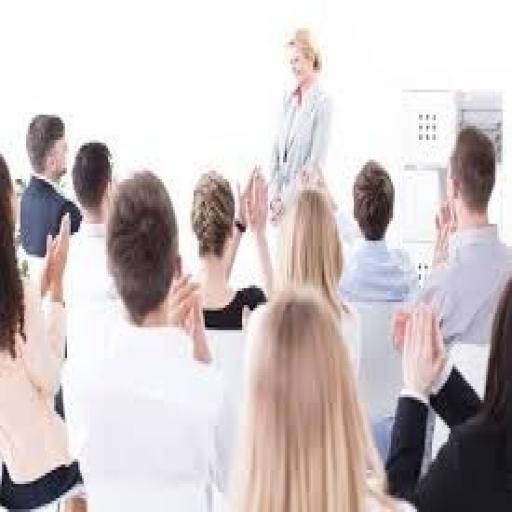clapping: (71, 168, 229, 509), (0, 100, 130, 512), (223, 286, 417, 510)
